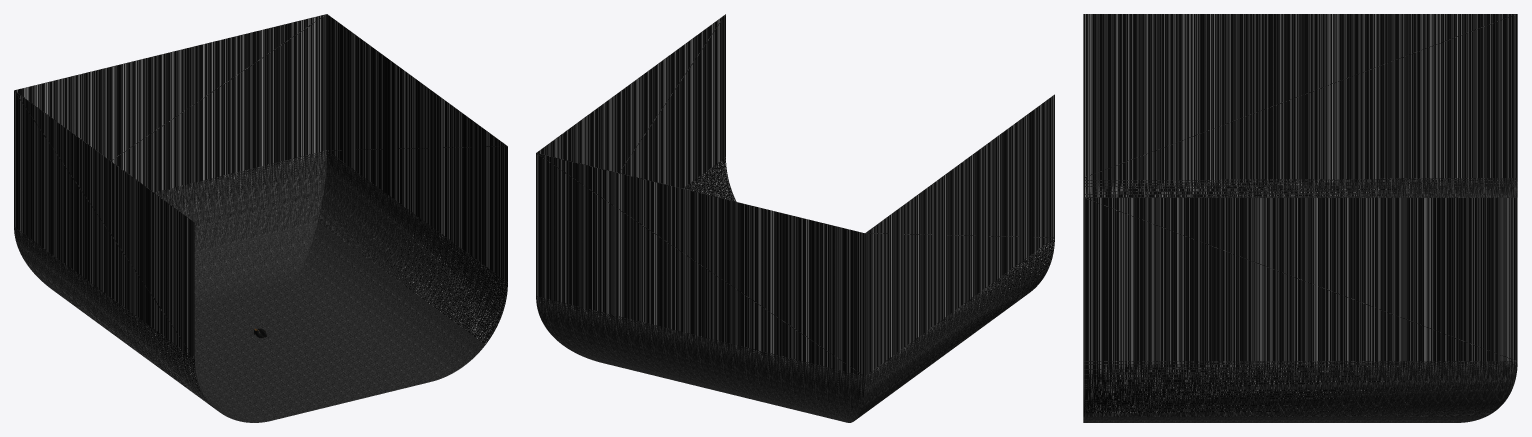
The model's file is sneaker.glb.
The picture shows the model from 3 angles, left to right: view 1: azimuth 30°, elevation 25°; view 2: azimuth 150°, elevation 25°; view 3: azimuth 270°, elevation 25°; orthographic projection. The views are drawn at different scales.
Parts seen in each view (by area): view 1: Plane; view 2: Plane; view 3: Plane.
Boxes of the visible parts, x1,y1,x2,y2 form: Plane: (14, 14, 507, 422); Plane: (536, 14, 1054, 422); Plane: (1083, 14, 1517, 422).
Bounding box in the file's own units: 18.57 × 12.29 × 18.57.
Materials: 3 (3 with a texture image).
